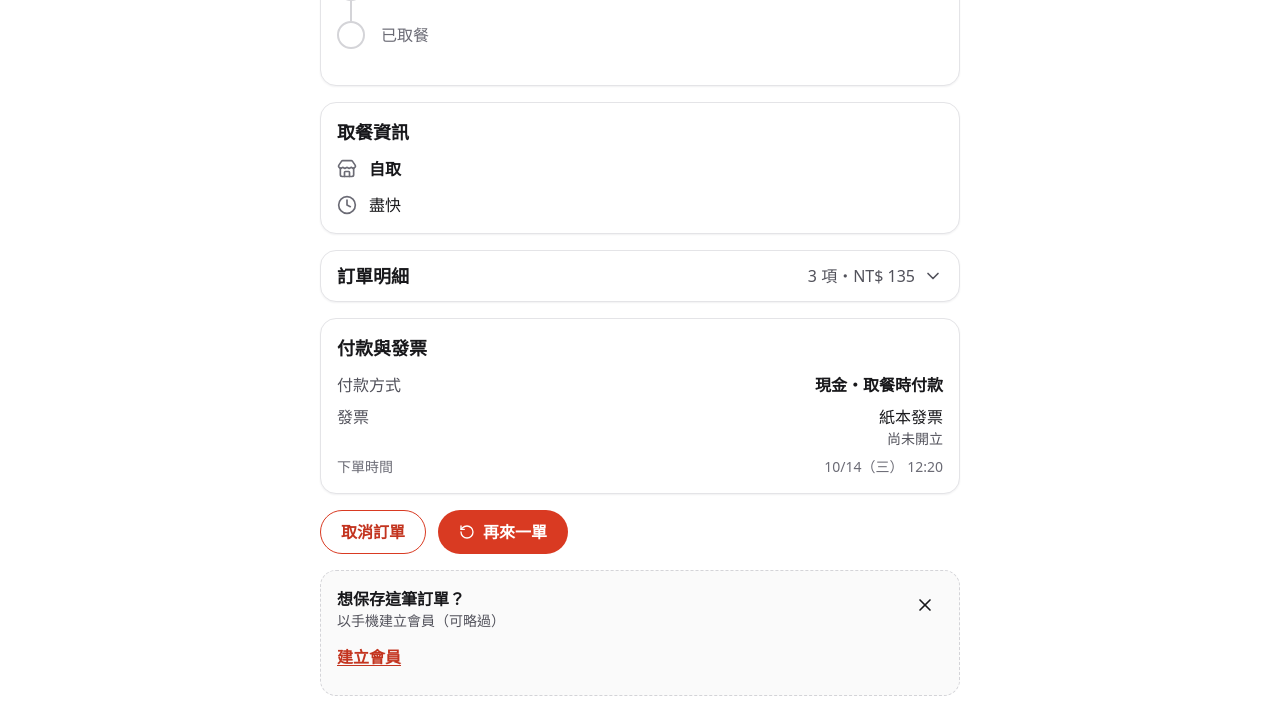
OrderPage：取消訂單 › 店家已接單（409 ORDER_STATE_CONFLICT）：提示致電店家並重新載入狀態
(page scrolled)
Click the button "取消訂單": {"x": 373, "y": 532} x1=320 y1=510 x2=426 y2=554
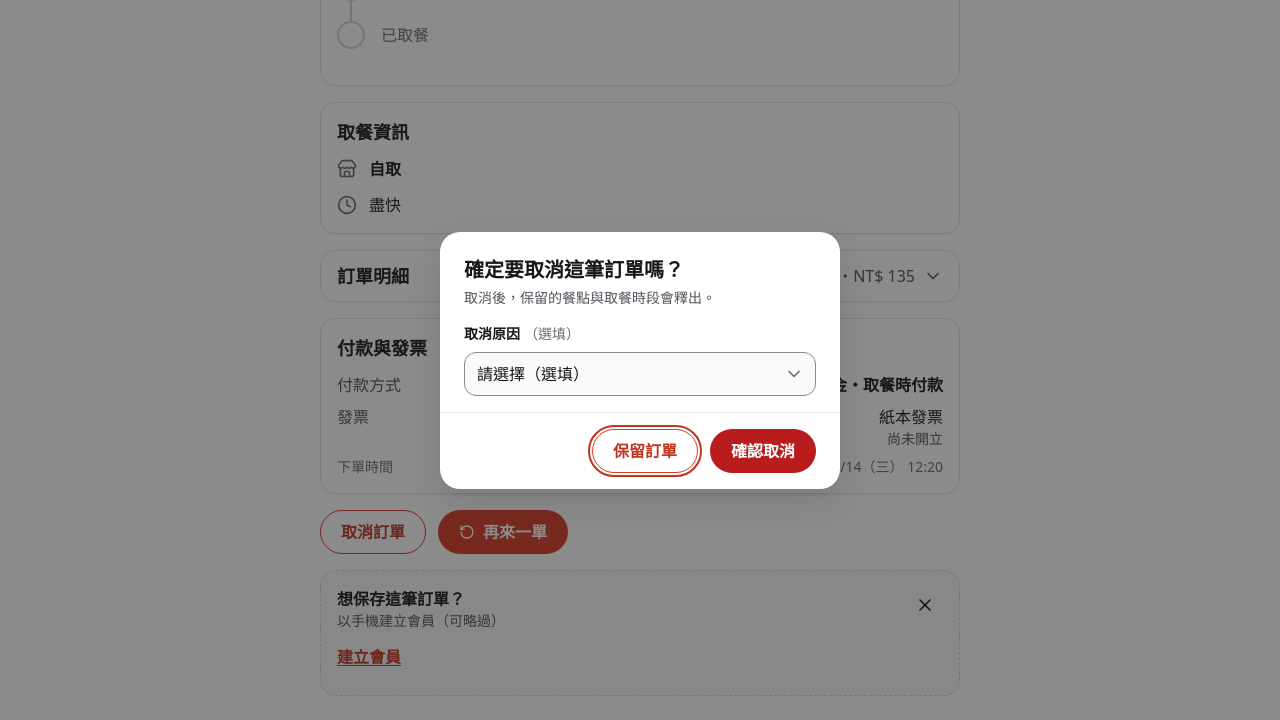
Click the button "確認取消": {"x": 763, "y": 450} x1=710 y1=428 x2=816 y2=472
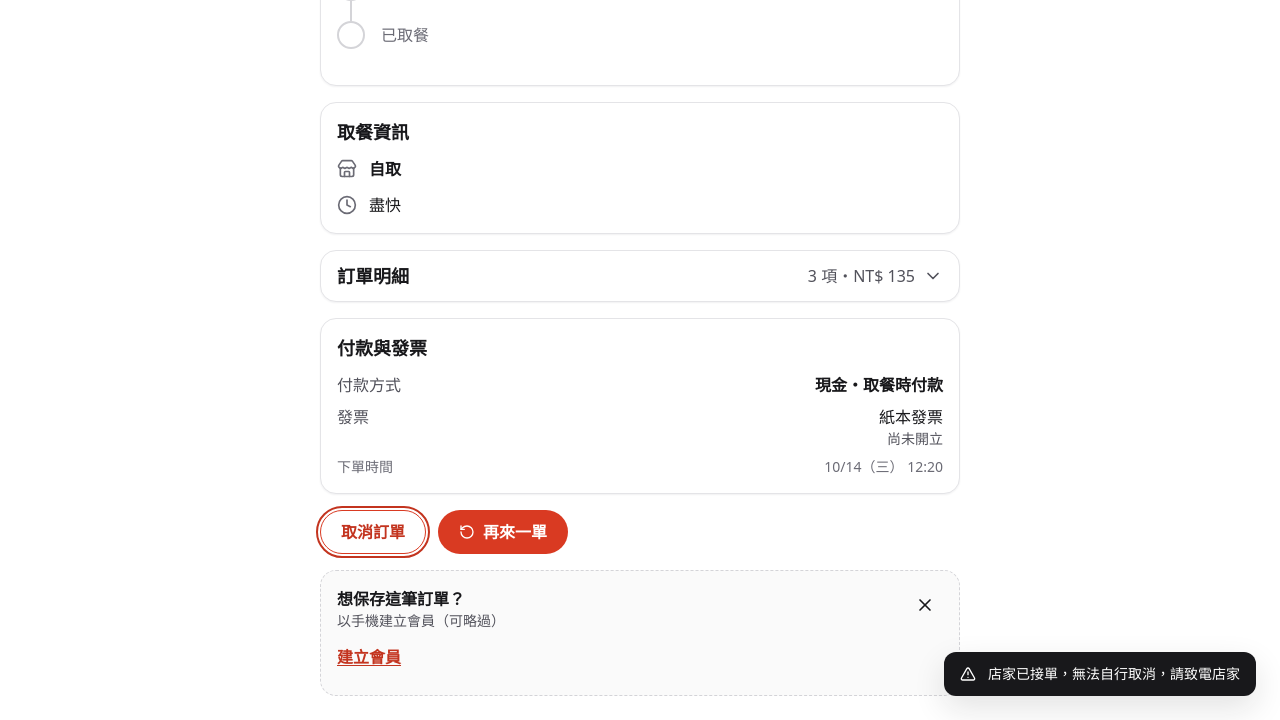
Expected: the text "店家已接單，無法自行取消，請致電店家" is shown, x1=988 y1=664 x2=1240 y2=684
